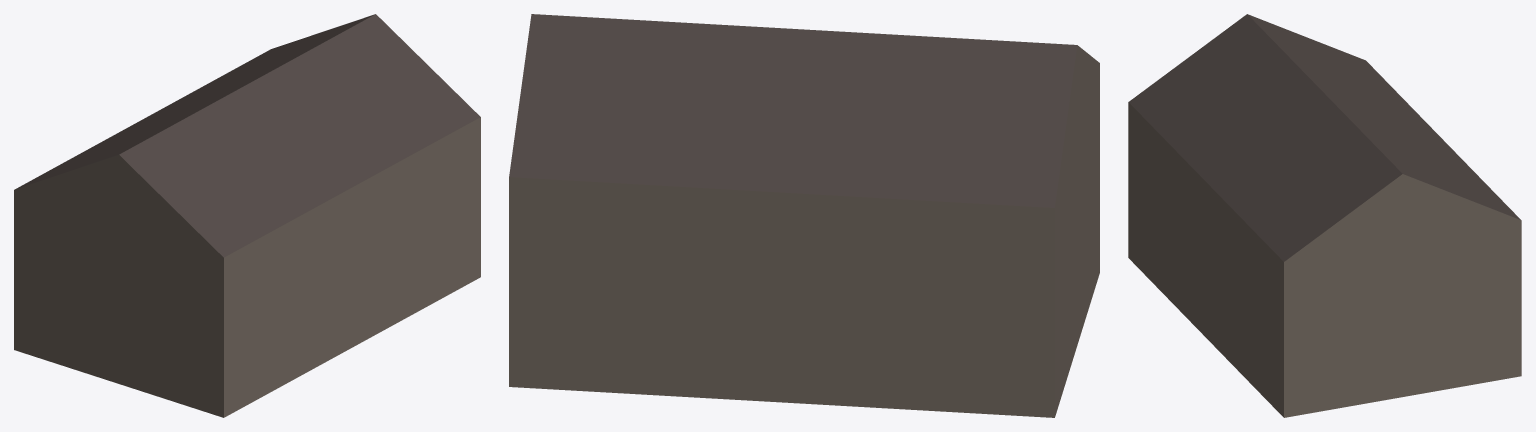
3 views of the same model, side by side, from view 1: azimuth 30°, elevation 25°; view 2: azimuth 150°, elevation 25°; view 3: azimuth 270°, elevation 25° (orthographic). The views are drawn at different scales.
Visible parts, largest first — view 1: HP-w859078937; view 2: HP-w859078937; view 3: HP-w859078937.
Boxes of the visible parts, x1,y1,x2,y2 form: HP-w859078937: [14, 14, 480, 417]; HP-w859078937: [509, 14, 1099, 417]; HP-w859078937: [1128, 14, 1521, 417].
Bounding box in the file's own units: 24.96 × 12.89 × 20.57.
